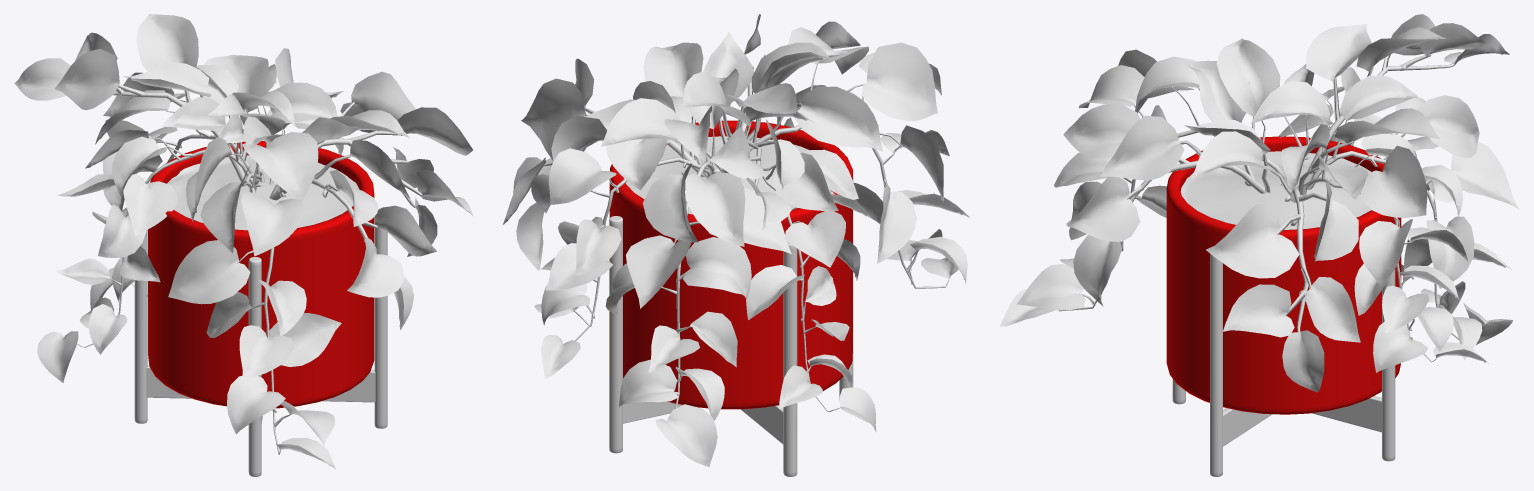
File: Plant Pothos.fbx
3 renders of one model, left to right at view 1: azimuth 30°, elevation 25°; view 2: azimuth 150°, elevation 25°; view 3: azimuth 270°, elevation 25°, orthographic. The views are drawn at different scales.
Visible parts, largest first — view 1: Plant_Pothos, Vase; view 2: Plant_Pothos, Vase; view 3: Plant_Pothos, Vase.
Boxes of the visible parts, left/top/right/bottom form: Plant_Pothos: left=14, top=14, right=473, bottom=469; Vase: left=134, top=141, right=387, bottom=476; Plant_Pothos: left=502, top=14, right=969, bottom=466; Vase: left=609, top=120, right=853, bottom=476; Plant_Pothos: left=999, top=14, right=1519, bottom=392; Vase: left=1166, top=136, right=1401, bottom=476.
Size of the model in its own units: 82.65 by 79.16 by 97.41.
